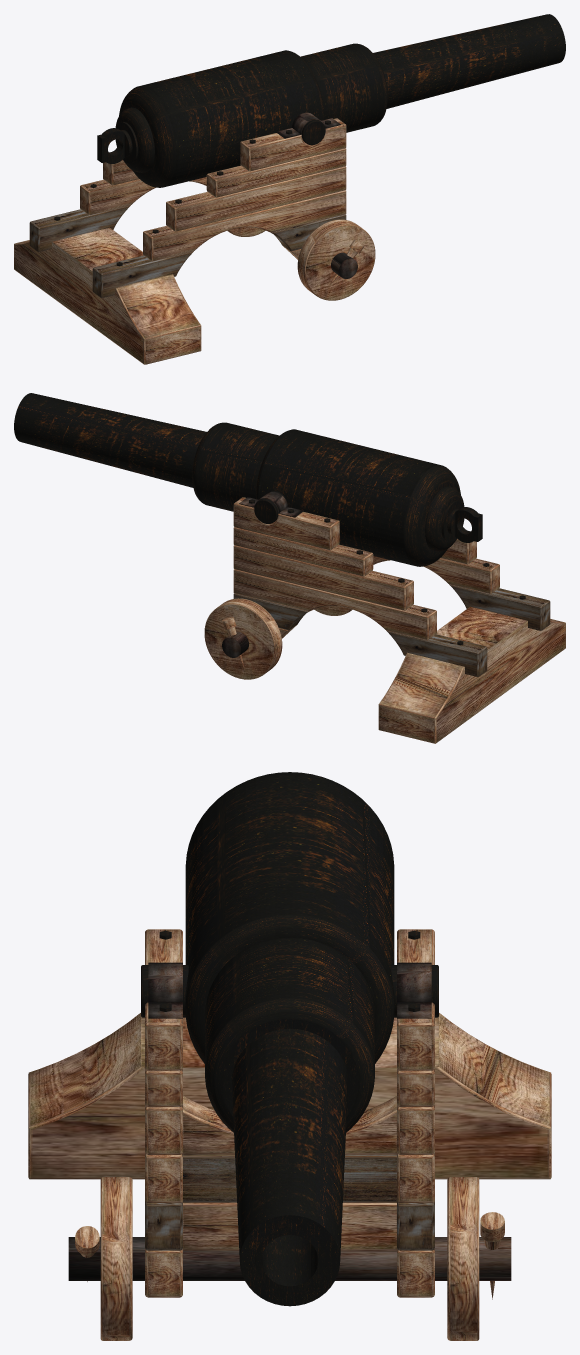
Rendered from canon_armstrong_40lb.glb.
The picture shows the model from 3 angles, top to bottom: view 1: azimuth 30°, elevation 25°; view 2: azimuth 150°, elevation 25°; view 3: azimuth 270°, elevation 25°; orthographic projection. The views are drawn at different scales.
Parts seen in each view (by area): view 1: 3DSMeshMatrix (×13); view 2: 3DSMeshMatrix (×13); view 3: 3DSMeshMatrix (×18).
Boxes of the visible parts, <box> form: 3DSMeshMatrix (×13): <box>14,14,565,364</box>; 3DSMeshMatrix (×13): <box>14,393,565,743</box>; 3DSMeshMatrix (×18): <box>28,772,551,1340</box>.
Bounding box in the file's own units: 176 × 72.7 × 81.85.
6 materials, 6 textured.
